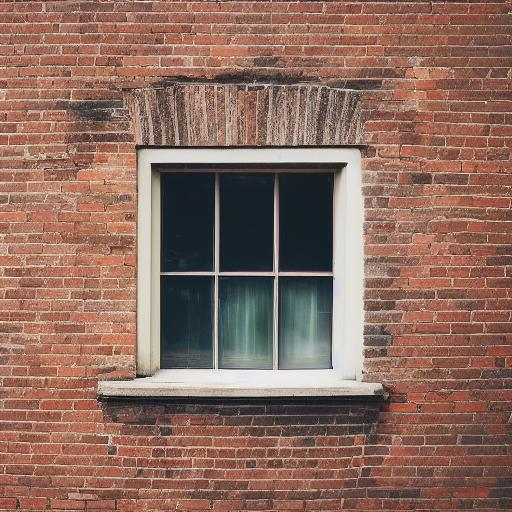Window: (95, 82, 390, 404)
